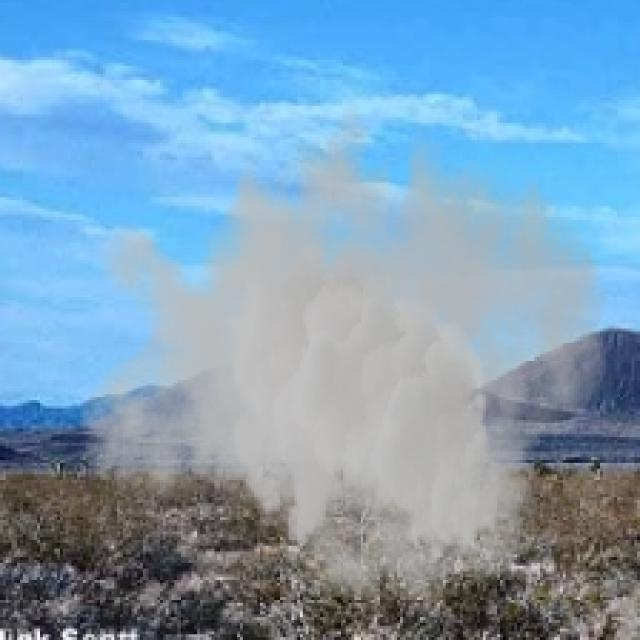smoke: (77, 77, 609, 623)
